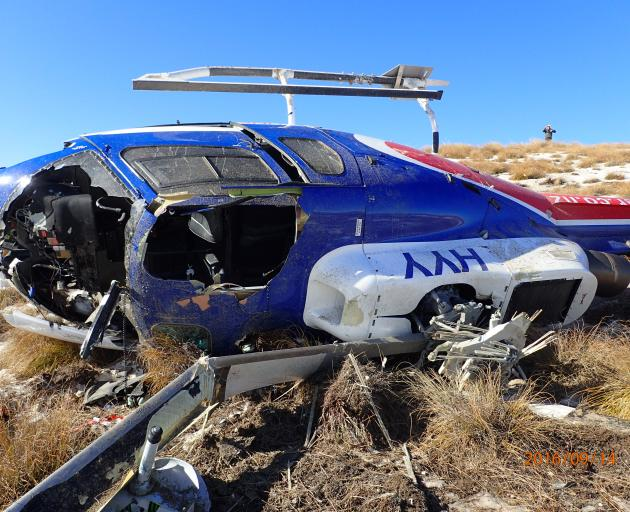Helicopter: (30, 102, 621, 365)
